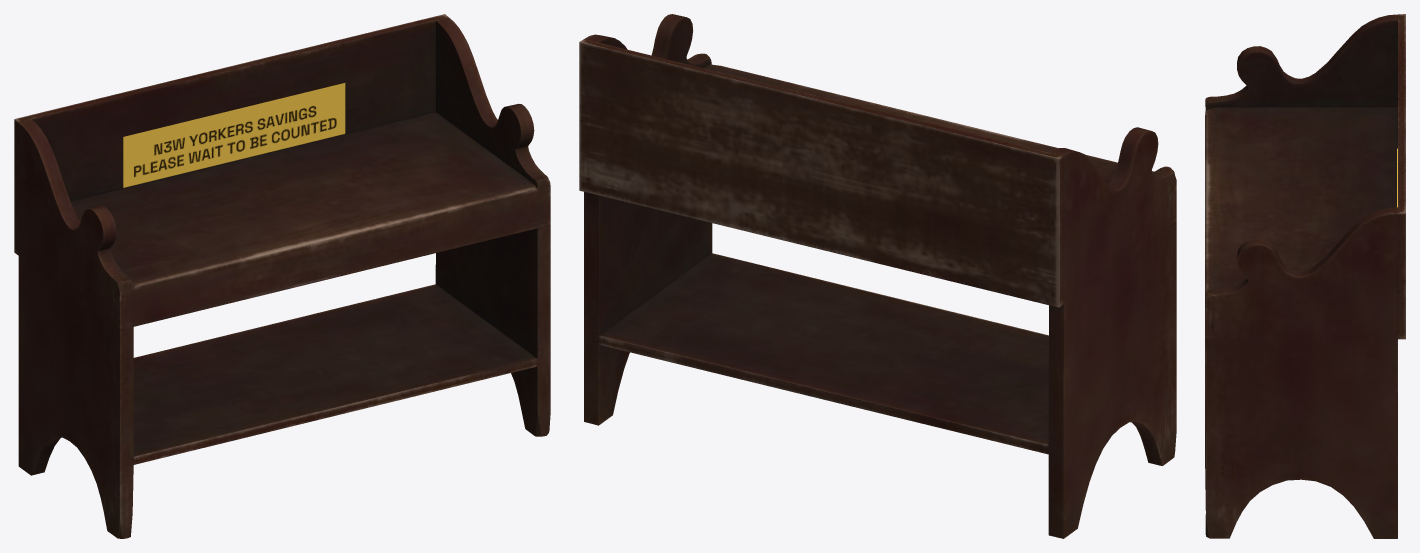
Rendered from nyb_dogday_bench.glb.
3 views of the same model, side by side, from view 1: azimuth 30°, elevation 25°; view 2: azimuth 150°, elevation 25°; view 3: azimuth 270°, elevation 25° (orthographic). The views are drawn at different scales.
Parts seen in each view (by area): view 1: painted_wooden_bench, stk_lbl_673d62d110.png; view 2: painted_wooden_bench; view 3: painted_wooden_bench.
Part boxes in pixels (box(x1,y1,x2,y2)): painted_wooden_bench: box(14, 14, 550, 538); stk_lbl_673d62d110.png: box(123, 83, 345, 187); painted_wooden_bench: box(579, 14, 1176, 538); painted_wooden_bench: box(1205, 14, 1405, 538).
Size of the model in its own units: 1.16 by 0.8893 by 0.4965.
2 materials, 2 textured.
